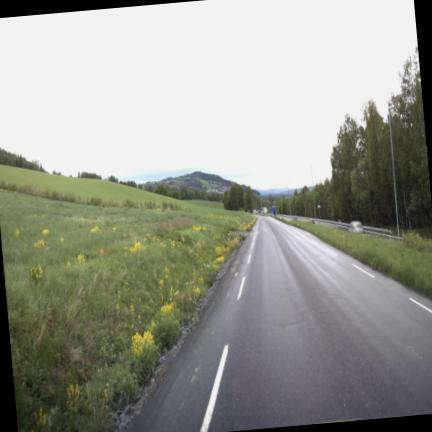Road: (129, 218, 431, 431)
